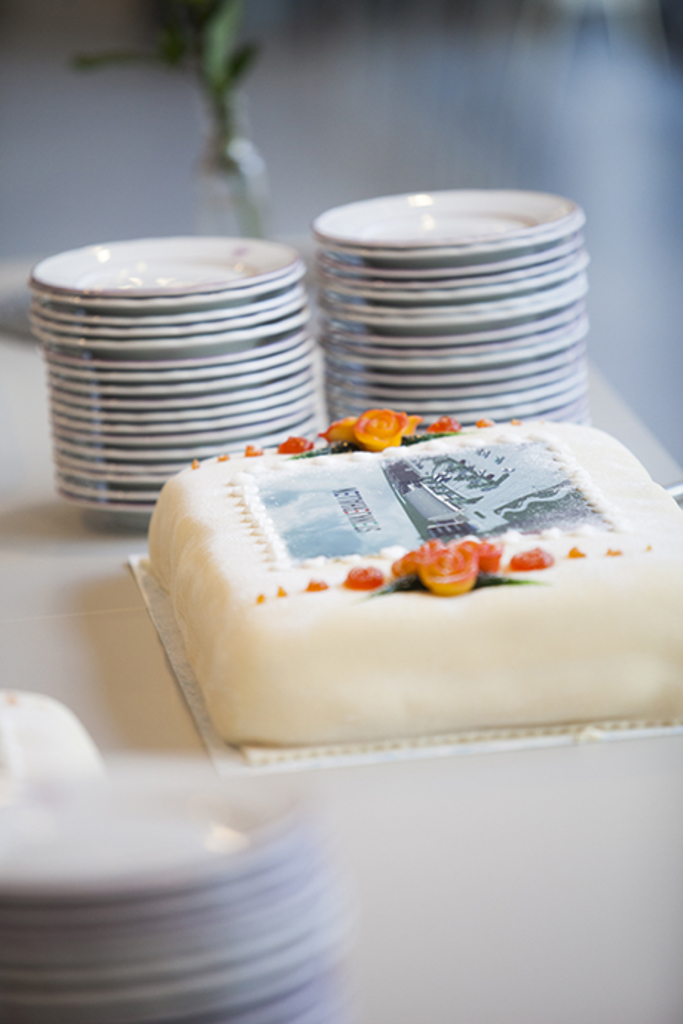cake: (143, 414, 682, 741)
